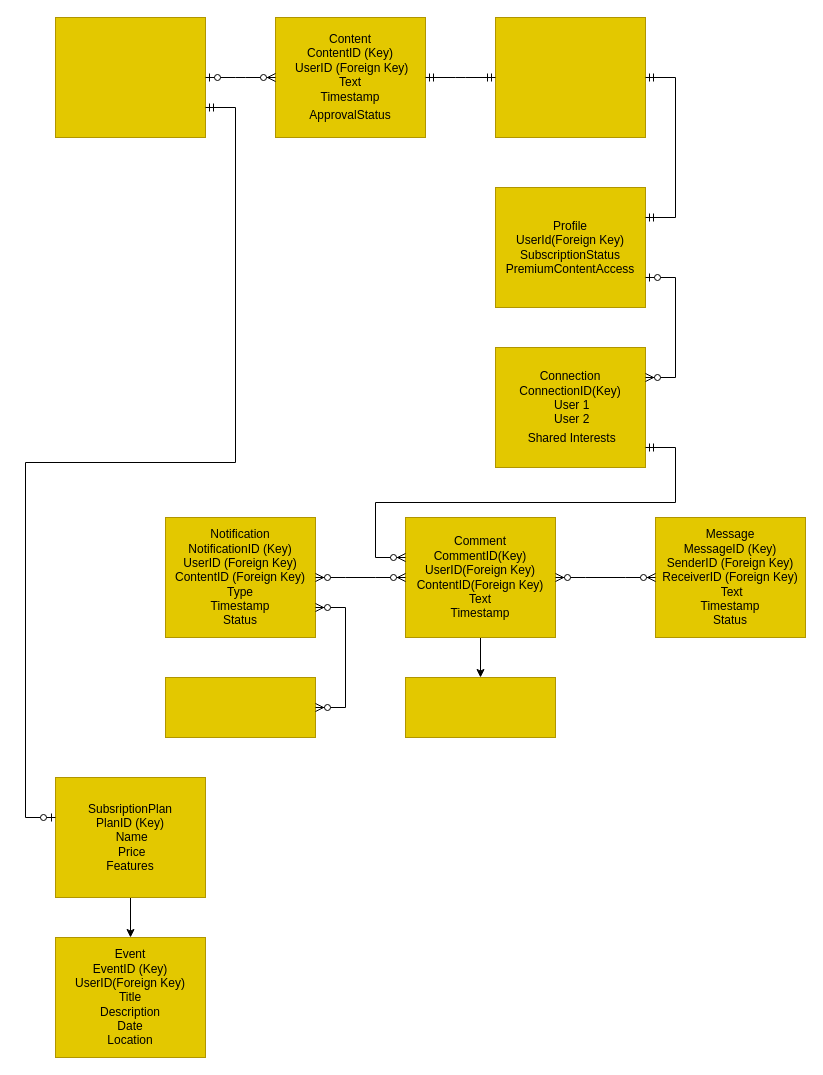
This 823x1075 diagram has some shape labels left out. Each missing label, with the centre of its shape:
Category CategoryID (Key) Name: (x=480, y=707)
Reviewer ReviewerID(Key) Name Expertise: (x=570, y=77)
Tag TagID (Key) Name: (x=240, y=707)
User UserID (Key) Name Educational Background Professional Experience Interests: (x=130, y=77)
